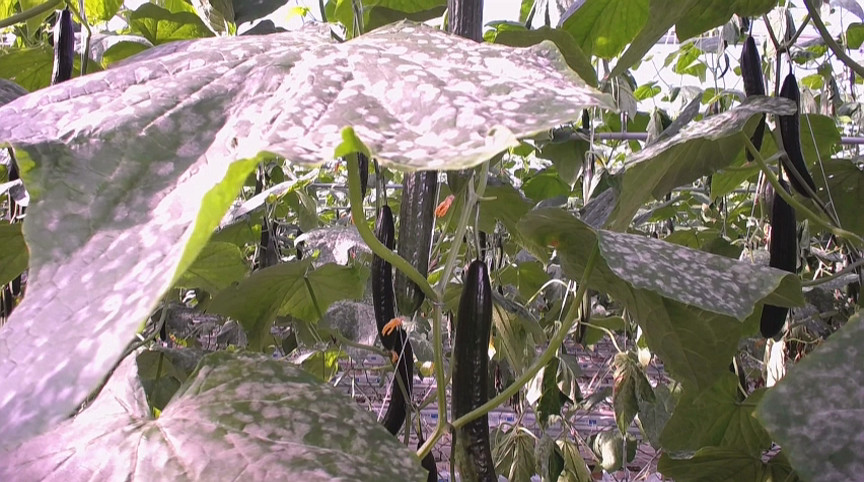cucumber: (454, 263, 495, 482), (760, 181, 796, 339), (400, 171, 436, 316), (780, 74, 818, 196), (375, 204, 396, 345), (384, 334, 413, 433), (742, 35, 764, 162), (49, 9, 73, 87), (447, 1, 483, 45)
